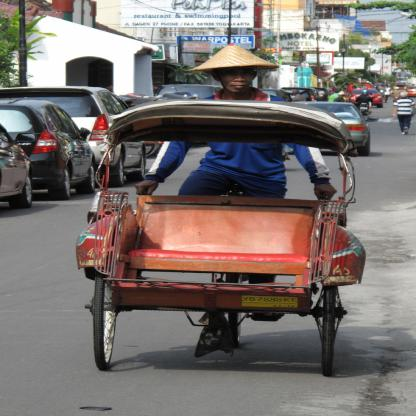Car: (0, 84, 415, 209)
